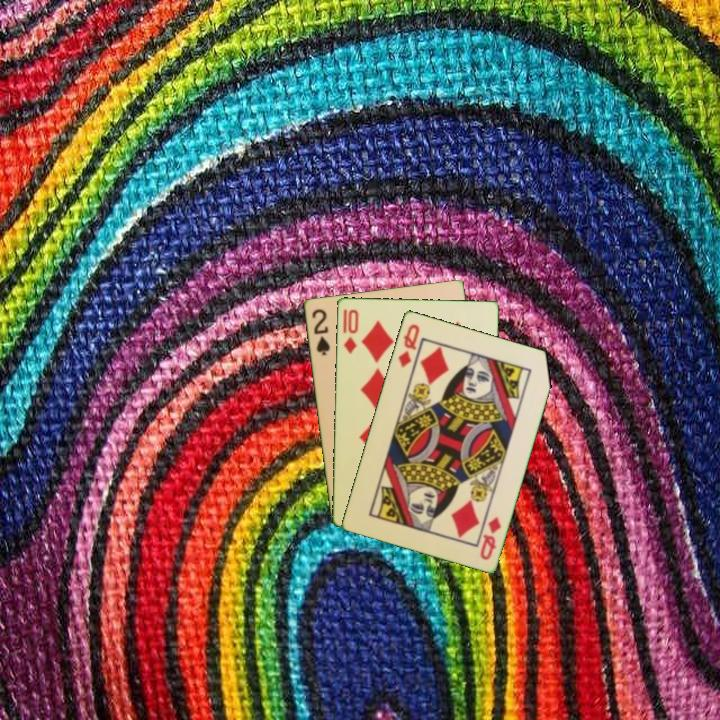10d: (339, 305, 361, 357)
2s: (308, 305, 333, 358)
Qd: (394, 320, 422, 370), (476, 513, 504, 562)
